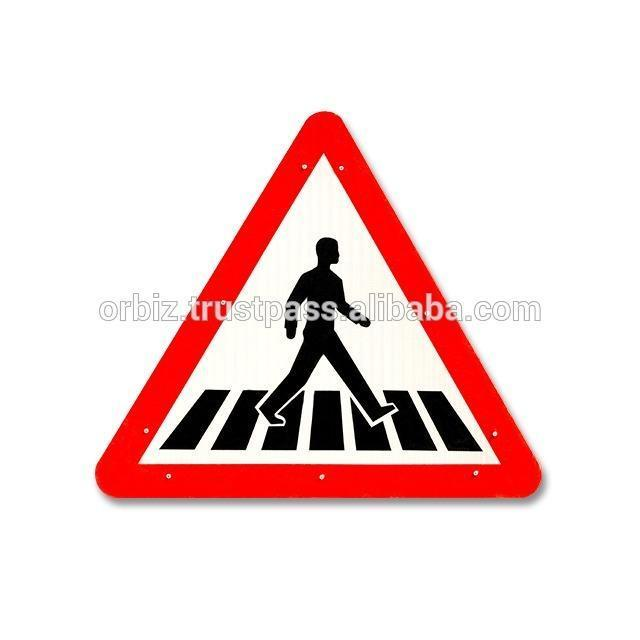pedestrian crossing: (86, 102, 552, 511)
